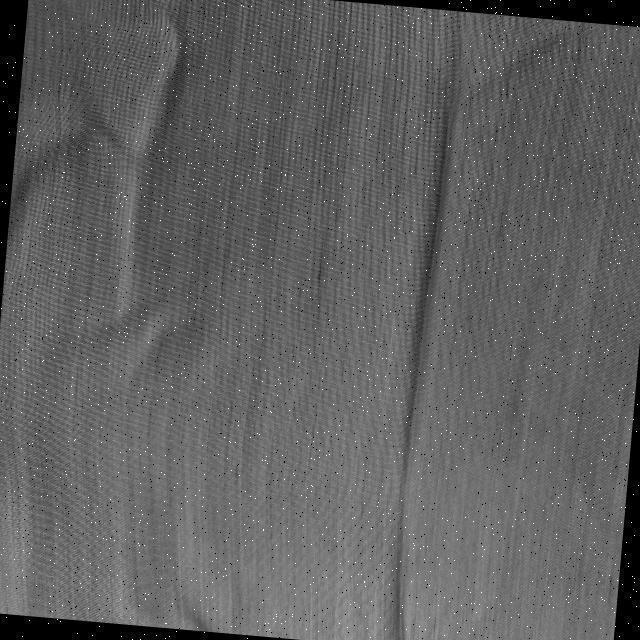broken_yarn: (393, 115, 450, 640)
